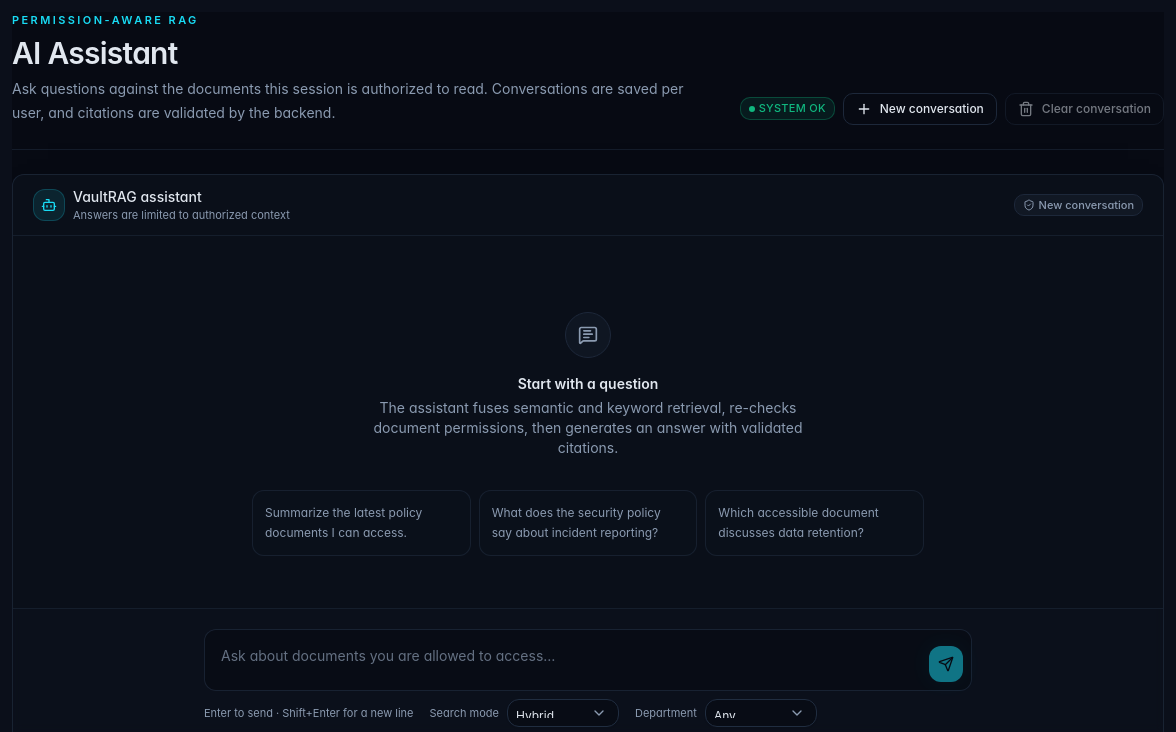
Test: ChatPage › renders conflicting evidence without declaring a winner
Step 1. Type "What does the security policy say about incident reporting?" into the text box named "Question" → (567, 660), box [213,638,921,682]
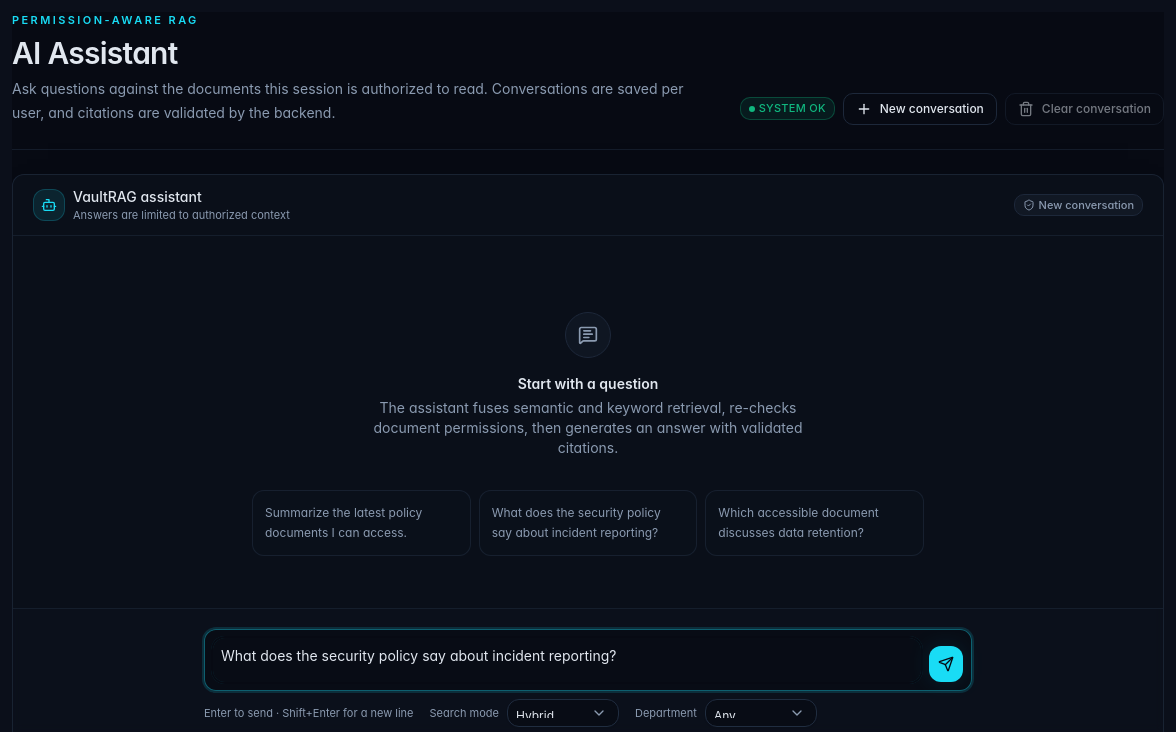
Step 2. Click the button named "Send question" → (946, 664), box [929,646,963,682]
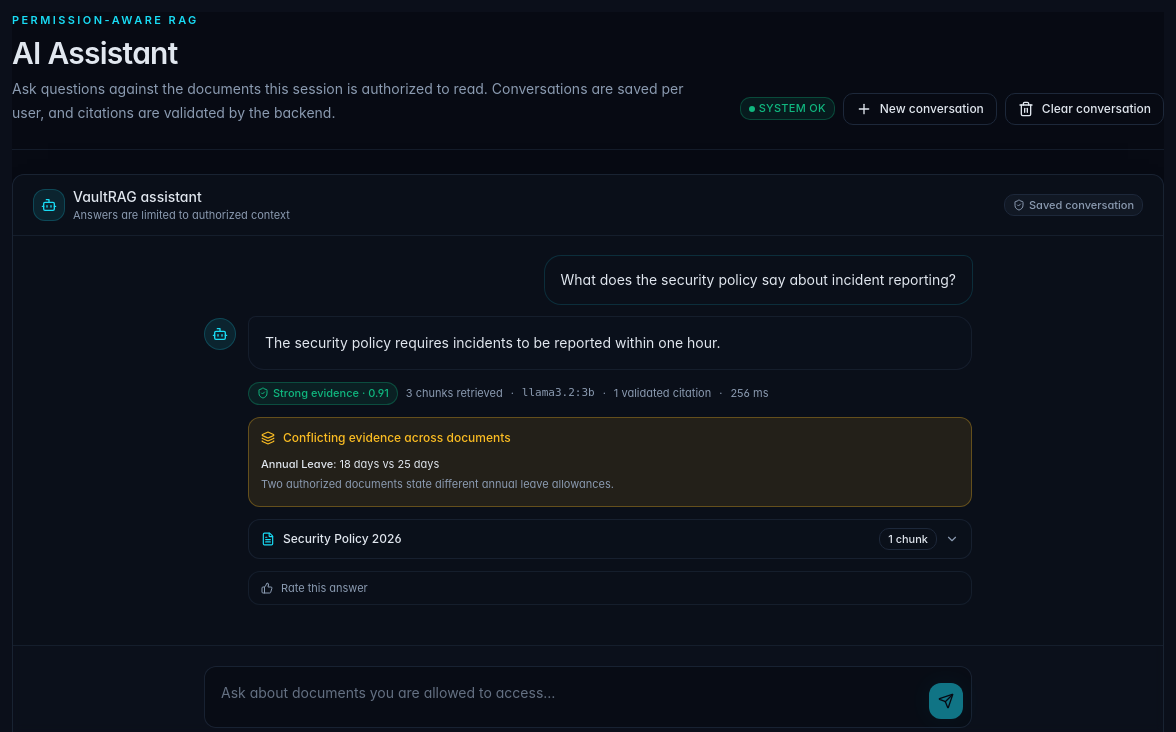
Now the text "Conflicting evidence across documents" is shown, box [261,430,511,444]
Now the list item "18 days vs 25 days" is shown, box [333,456,439,470]
